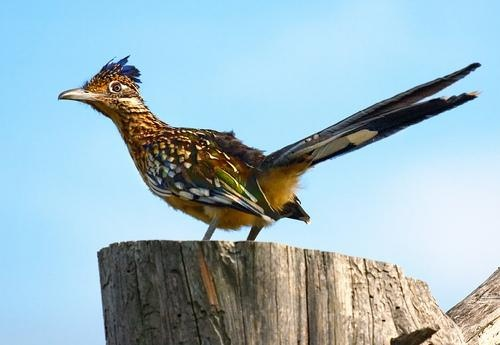bird: (55, 52, 477, 242)
